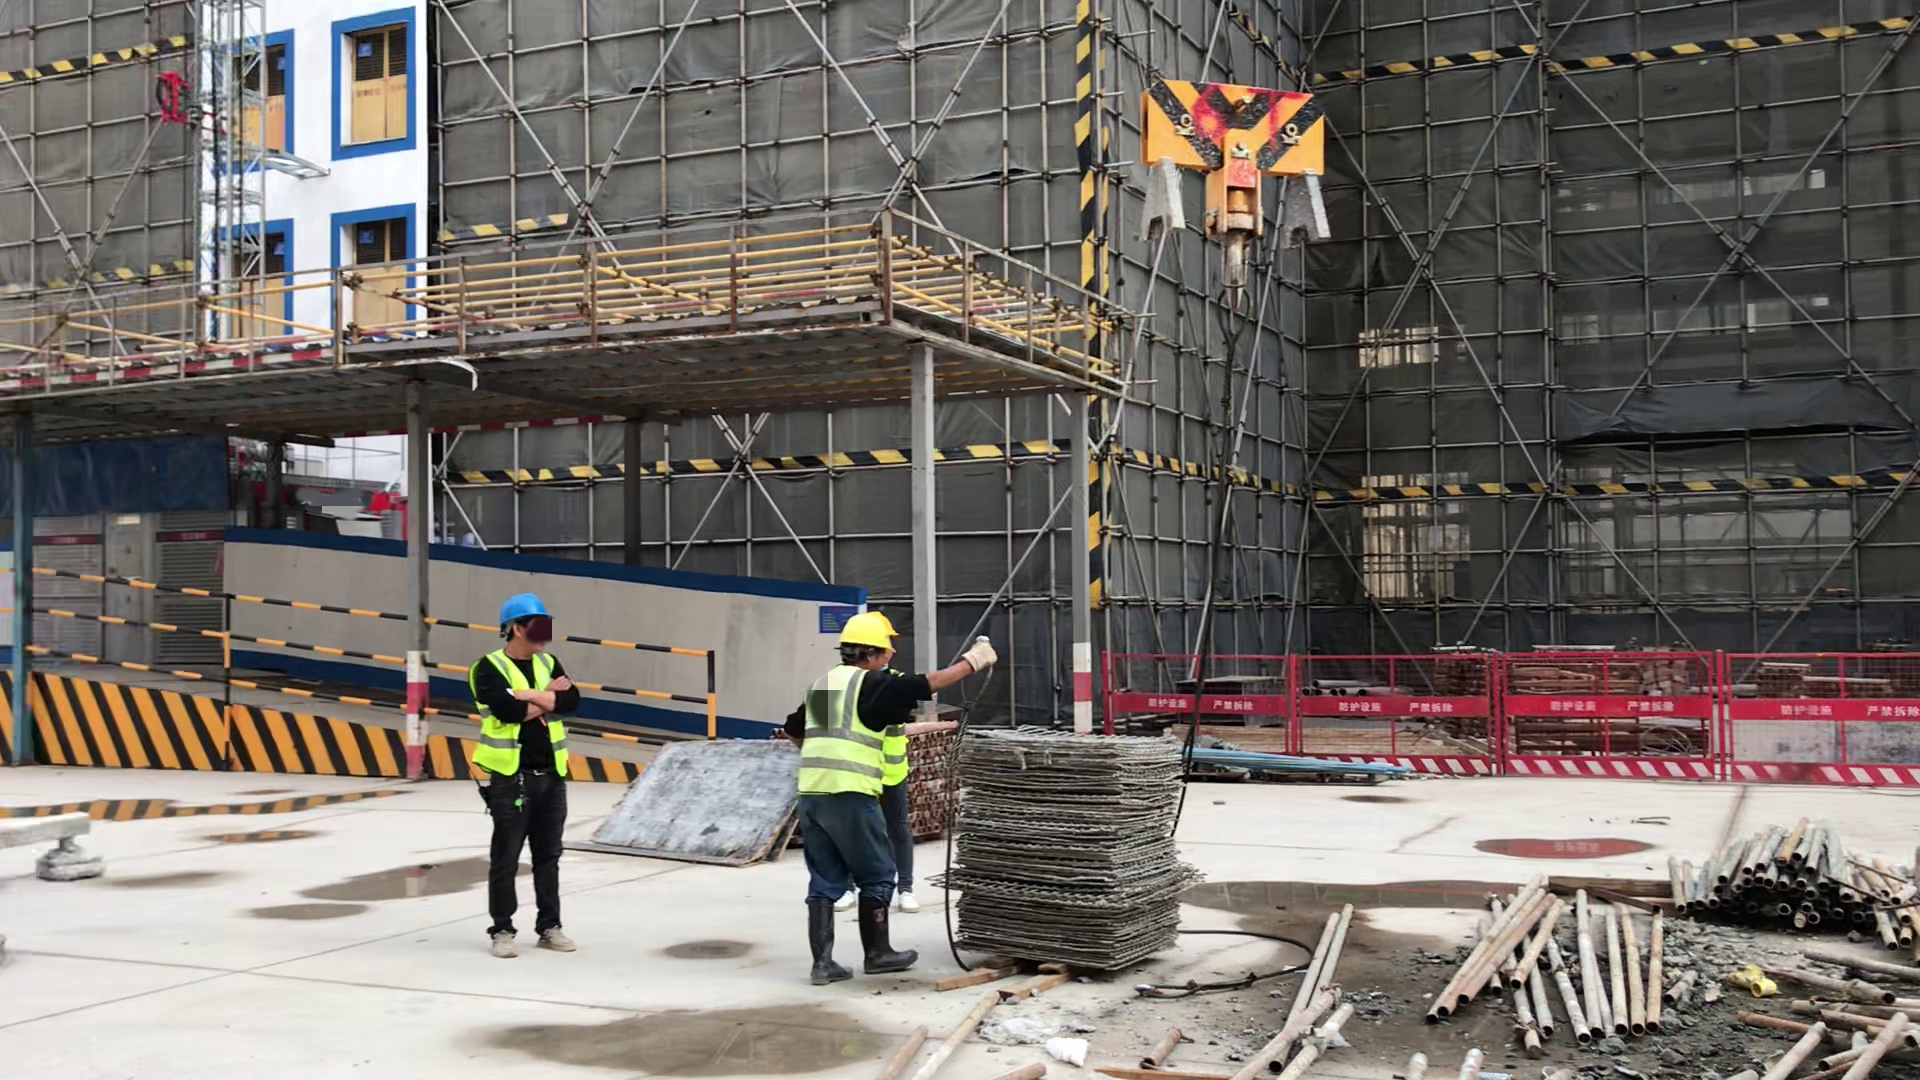fence: (1396, 645, 1918, 790), (45, 558, 395, 720), (1215, 645, 1391, 752), (603, 635, 725, 734), (1102, 641, 1181, 717)
helmet: (833, 609, 889, 656), (488, 593, 554, 628)
hook: (1133, 72, 1319, 302)
person: (787, 603, 995, 979), (469, 591, 584, 965)
scaffold: (1656, 808, 1899, 935), (906, 716, 958, 843)
slogan: (28, 532, 101, 546), (156, 533, 215, 541)
vest: (475, 646, 573, 785), (801, 665, 893, 798)
